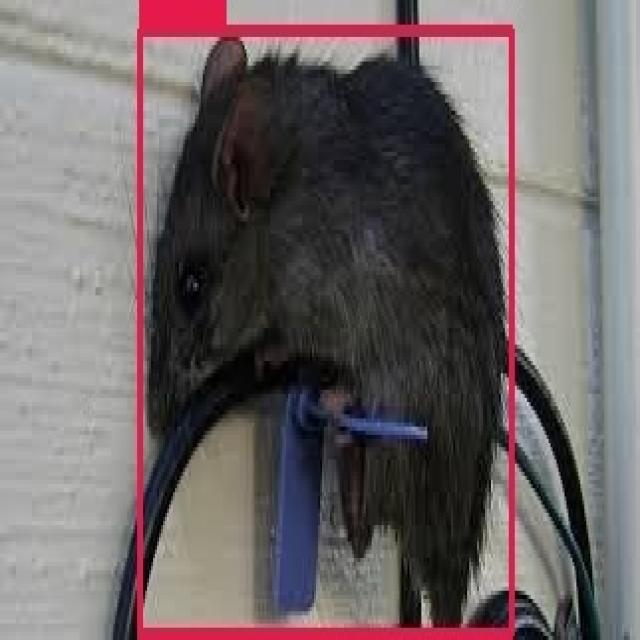rat: (141, 29, 511, 636)
